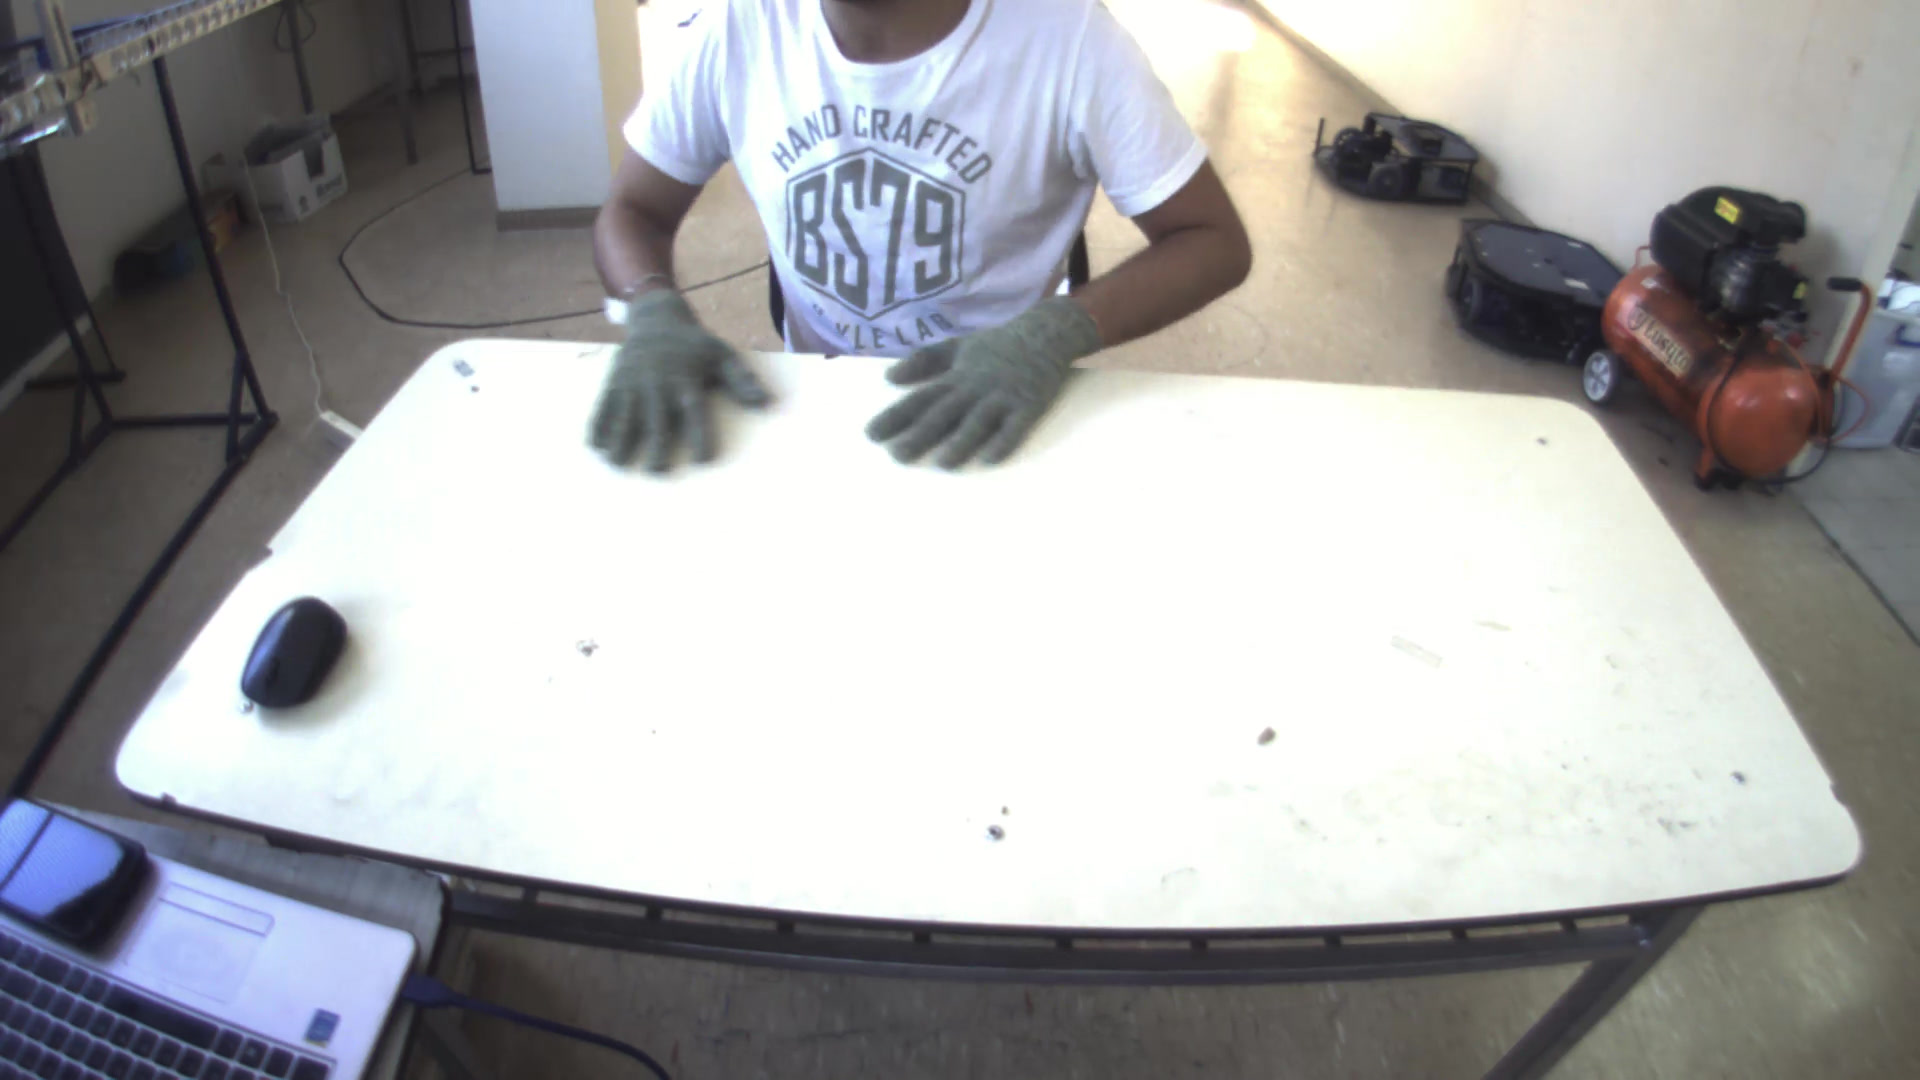hand: (856, 289, 1110, 475), (576, 280, 775, 477)
